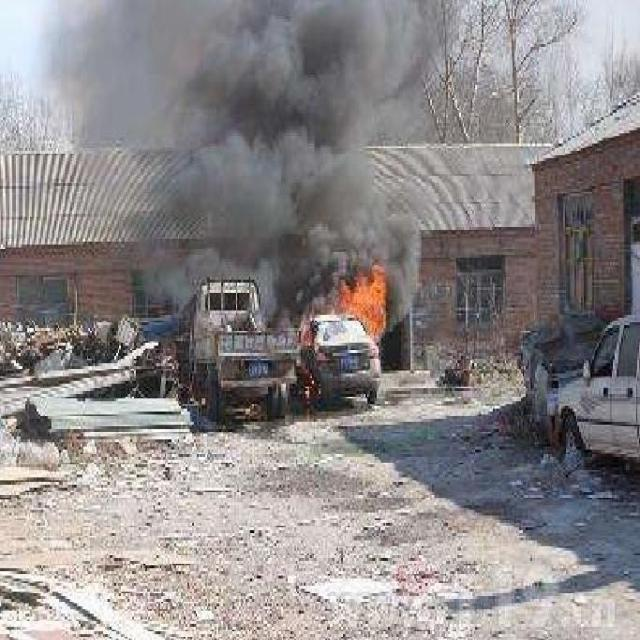Fire: (338, 266, 390, 340), (296, 317, 320, 398)
Smoke: (46, 0, 454, 329)
